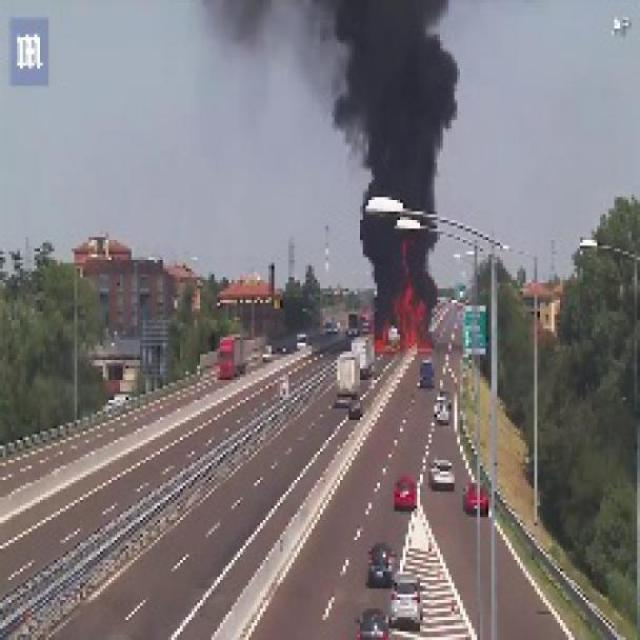Fire: (373, 276, 438, 356)
Smoke: (326, 3, 462, 270), (200, 0, 321, 118)
